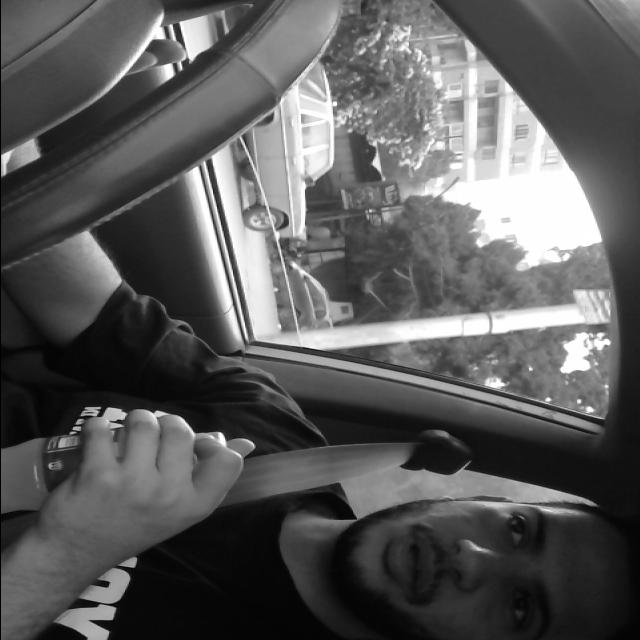drinking: (0, 425, 237, 520)
